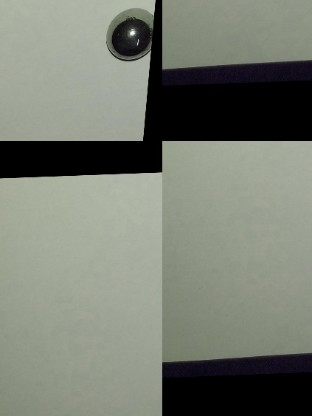ironball: (101, 6, 154, 63)
